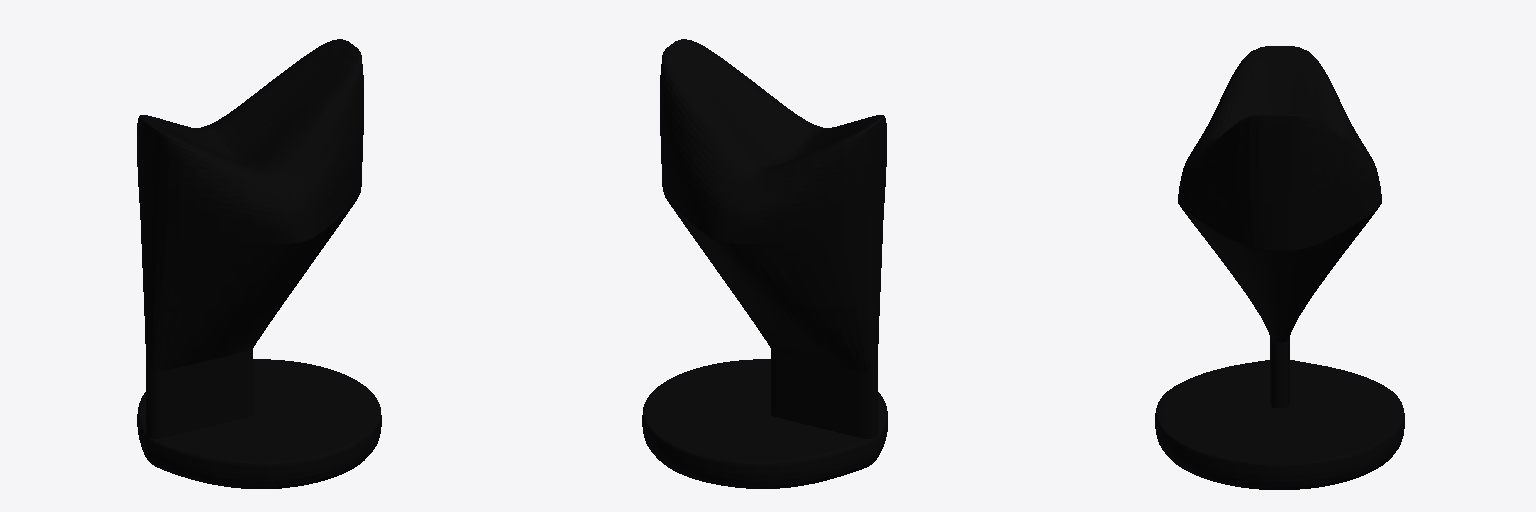
File: muscovite.obj
3 views of the same model, side by side, from view 1: azimuth 30°, elevation 25°; view 2: azimuth 150°, elevation 25°; view 3: azimuth 270°, elevation 25° (orthographic).
Parts seen in each view (by area): view 1: muscovite; view 2: muscovite; view 3: muscovite.
Boxes of the visible parts, x1,y1,x2,y2 form: muscovite: [137, 39, 381, 488]; muscovite: [642, 39, 887, 488]; muscovite: [1155, 46, 1404, 489].
Bounding box in the file's own units: 18.67 × 30.83 × 18.53.